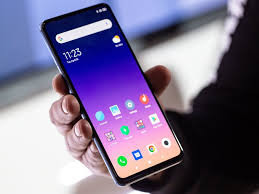samsung: (39, 1, 182, 187)
